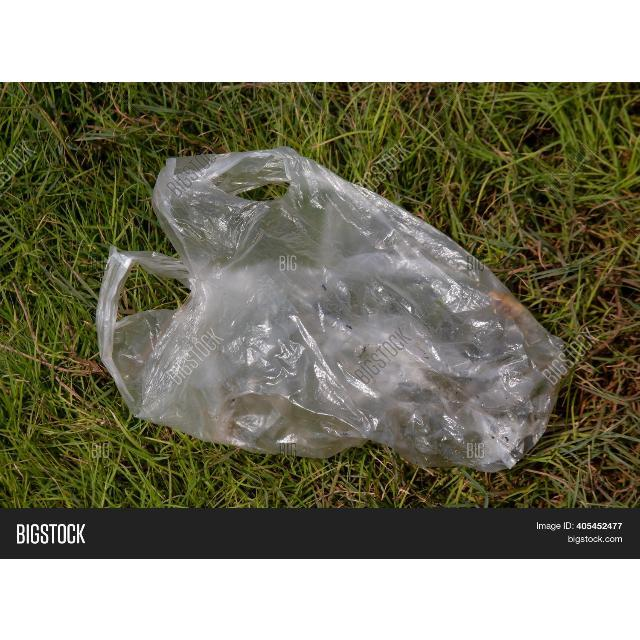plastic: (97, 148, 565, 471)
